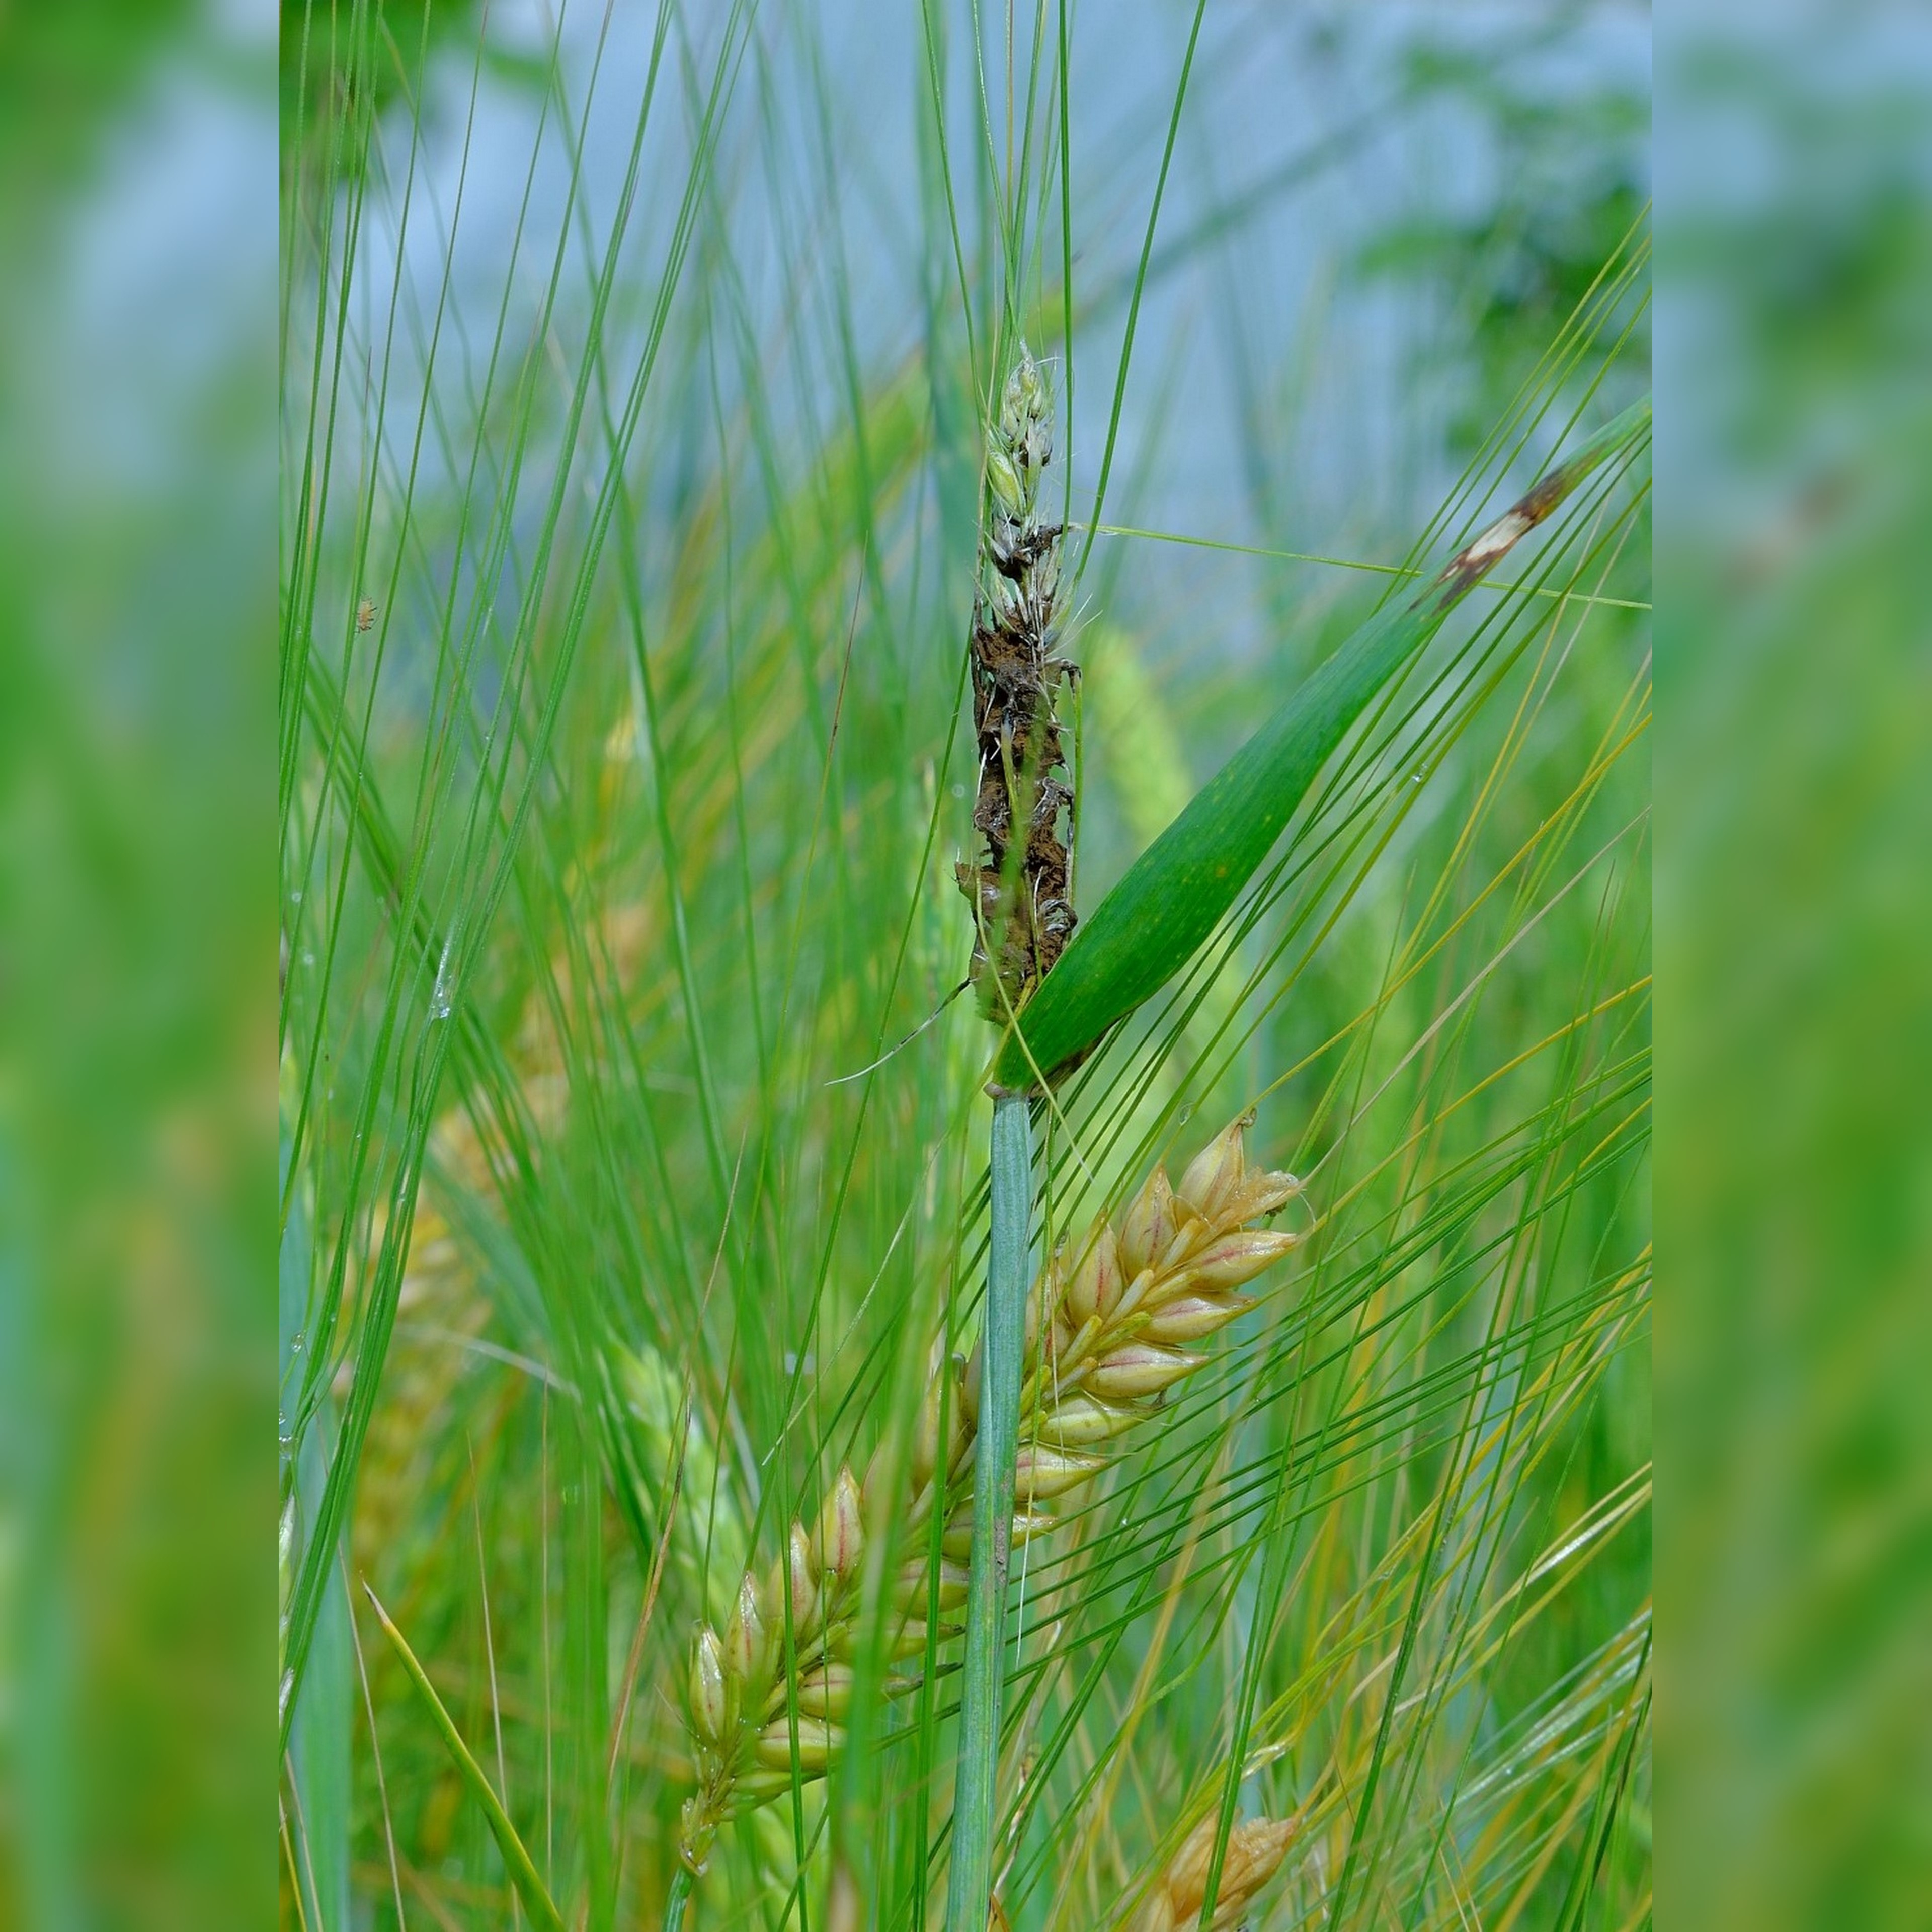Wheat Loose Smut: (927, 345, 1118, 994)
